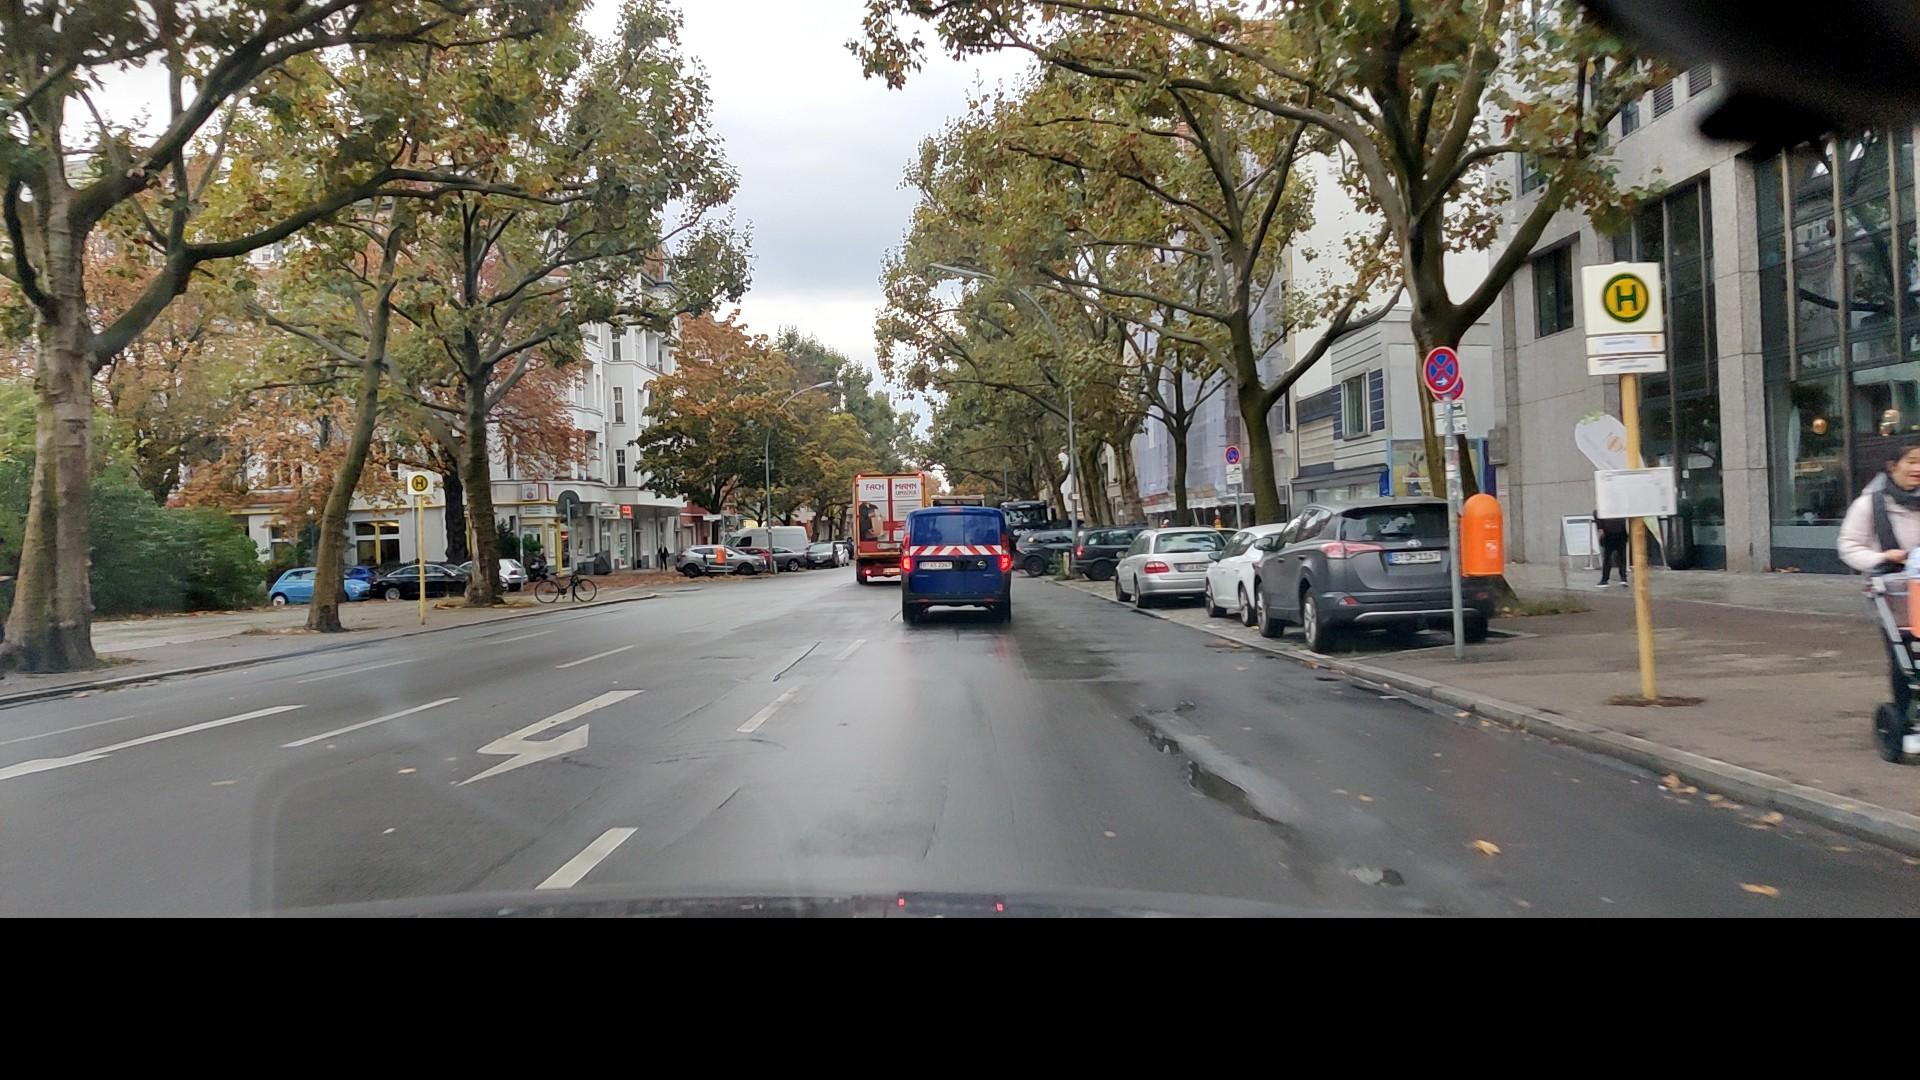Human face: (1885, 443, 1920, 487)
Vehicle registration plate: (1387, 551, 1440, 564), (919, 561, 952, 570), (1177, 564, 1208, 571)
